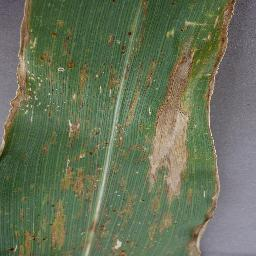Gray_Leaf_Spot: (146, 0, 246, 199), (83, 28, 145, 256), (0, 0, 40, 135), (61, 28, 84, 195), (41, 32, 62, 155), (186, 198, 218, 256), (45, 195, 70, 256), (145, 199, 172, 244), (10, 229, 45, 256), (17, 201, 28, 221), (52, 16, 64, 26), (19, 148, 27, 161)
